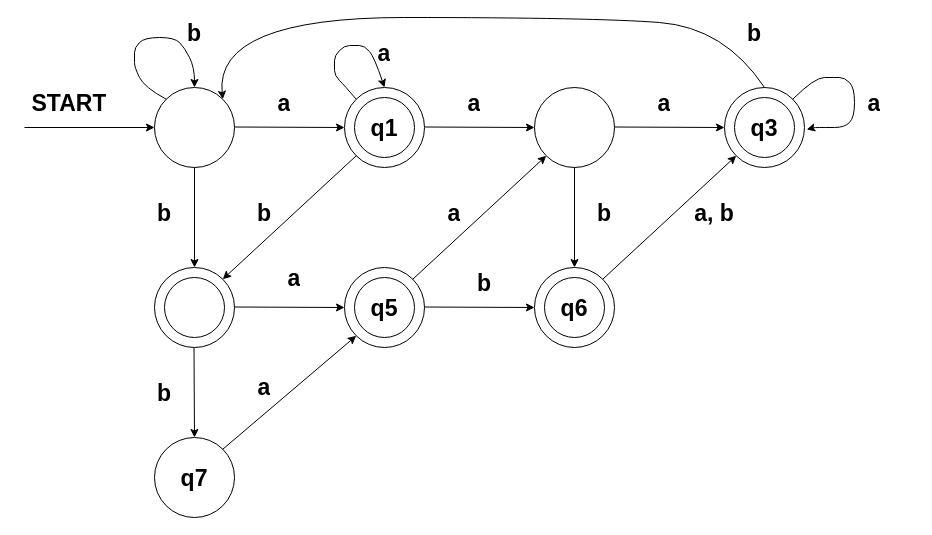
Image size: 932x535. Some labels were removed from this diagram. The shapes that lost their labels are listed below. From the top down, each one's centre as x and y in pixels, then its label:
At (194,127): "q0".
At (574,127): "q2".
At (194,307): "q4".
